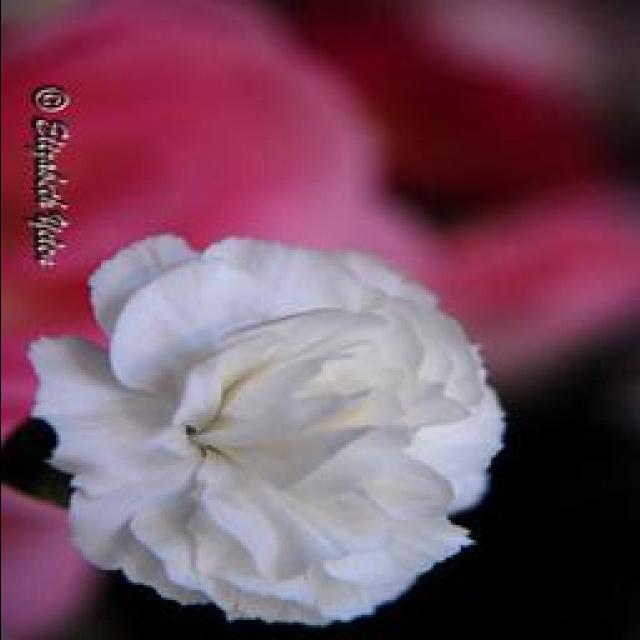carnation: (8, 237, 528, 640)
